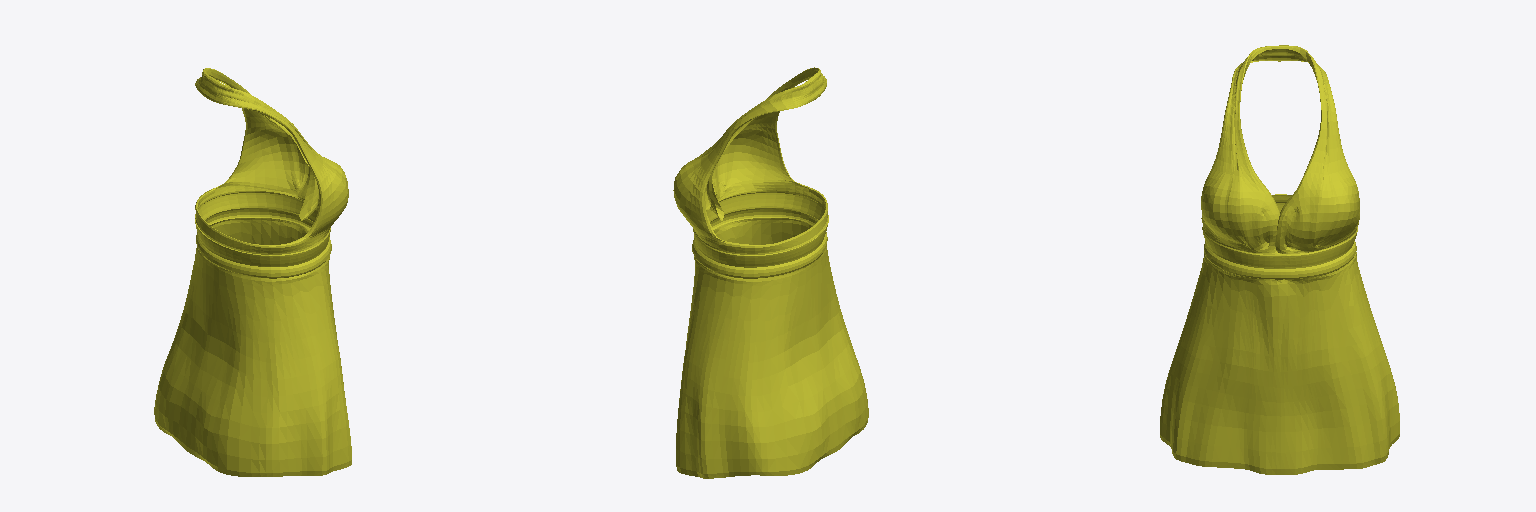
Rendered from duanqun5.obj.
3 views of the same model, side by side, from view 1: azimuth 30°, elevation 25°; view 2: azimuth 150°, elevation 25°; view 3: azimuth 270°, elevation 25° (orthographic).
Visible parts, largest first — view 1: file.002; view 2: file.002; view 3: file.002.
Boxes of the visible parts, <box> form: file.002: <box>154,68,351,476</box>; file.002: <box>673,67,868,478</box>; file.002: <box>1160,45,1399,474</box>.
Size of the model in its own units: 2.47 by 6.25 by 3.61.